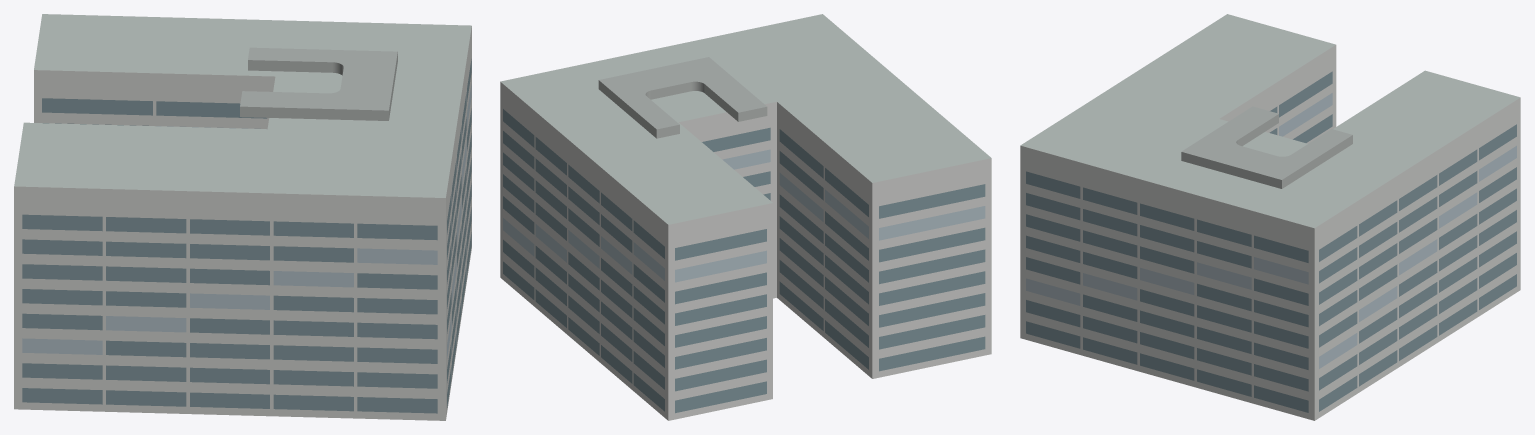
File: apt-a13789002.glb
3 renders of one model, left to right at view 1: azimuth 30°, elevation 25°; view 2: azimuth 150°, elevation 25°; view 3: azimuth 270°, elevation 25°, orthographic. The views are drawn at different scales.
Visible parts, largest first — view 1: apt-a13789002; view 2: apt-a13789002; view 3: apt-a13789002.
Part boxes in pixels (x1,y1,x2,y2): apt-a13789002: (14,14,471,420); apt-a13789002: (500,14,991,420); apt-a13789002: (1020,14,1520,420).
Bounding box in the file's own units: 59.26 × 26 × 58.48.
